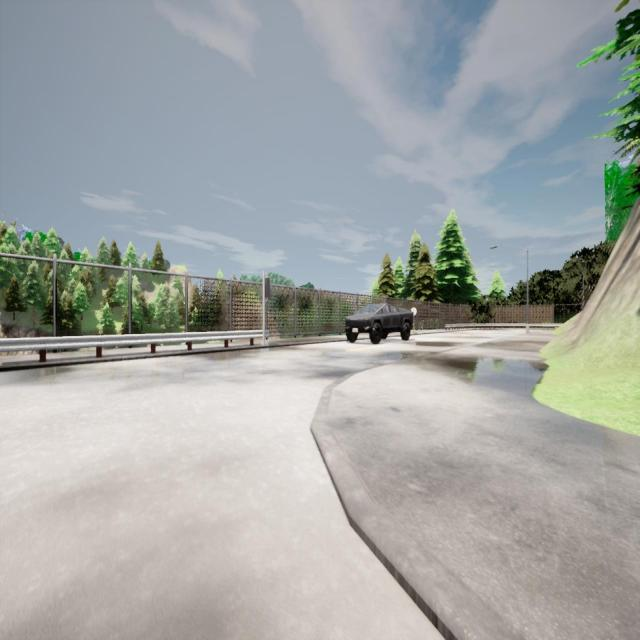Traffic_Signs: (410, 307, 418, 316)
Vehicle: (345, 302, 413, 344)
traffic_light: (265, 278, 270, 298)
